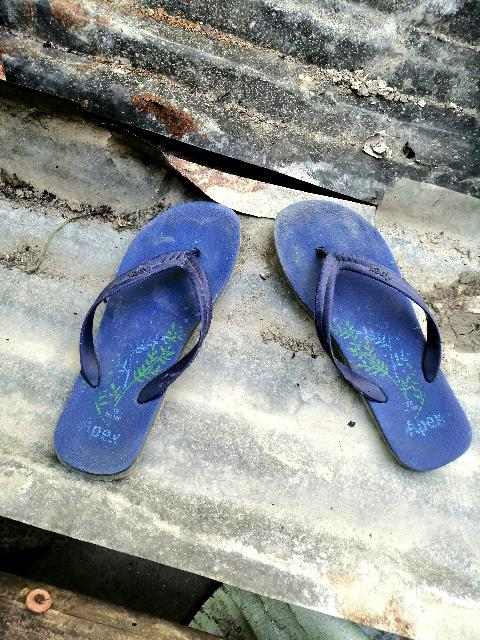sandal: (25, 173, 263, 498), (257, 178, 480, 502)
